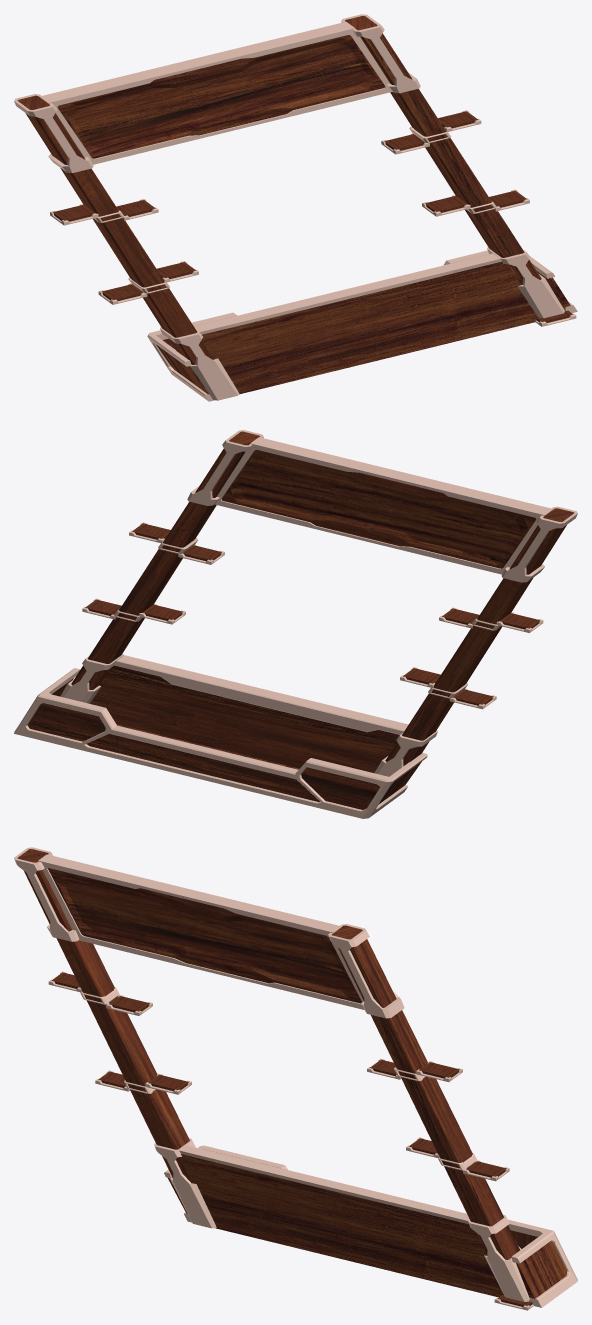
File: wood_panels.fbx
3 views of the same model, one above another, from view 1: azimuth 30°, elevation 25°; view 2: azimuth 150°, elevation 25°; view 3: azimuth 330°, elevation 25° (orthographic). The views are drawn at different scales.
Parts seen in each view (by area): view 1: wood_armature, planter; view 2: wood_armature, planter; view 3: wood_armature, planter.
Boxes of the visible parts, <box> form: wood_armature: <box>14,14,564,400</box>; planter: <box>147,250,577,401</box>; wood_armature: <box>60,430,577,776</box>; planter: <box>14,655,427,818</box>; wood_armature: <box>14,847,529,1301</box>; planter: <box>156,1144,577,1307</box>.
Size of the model in its own units: 485 by 283 by 70.13.
